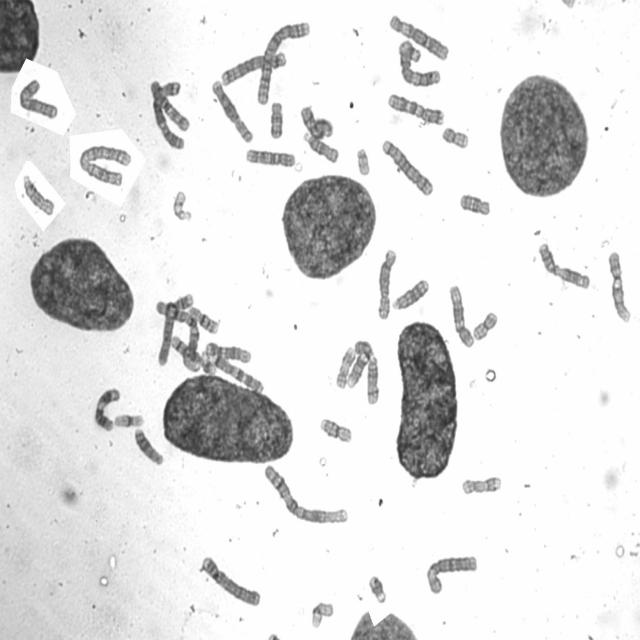A1: (262, 466, 351, 527), (154, 297, 202, 374)
A2: (254, 18, 312, 106), (76, 141, 134, 188)
A3: (148, 77, 187, 151), (396, 38, 442, 88)
B4: (199, 553, 262, 608), (154, 291, 199, 368)
B5: (379, 136, 434, 197), (218, 49, 288, 87)
C10: (150, 82, 188, 129), (244, 145, 296, 169)
C11: (536, 240, 592, 292), (91, 383, 122, 432)
C12: (447, 282, 475, 350), (202, 339, 252, 364)
C6: (386, 11, 450, 62), (423, 551, 478, 597)
C7: (210, 352, 264, 394), (386, 90, 446, 126)
C8: (209, 76, 254, 144), (374, 246, 398, 321)
C9: (606, 248, 632, 324), (347, 338, 378, 390)
D13: (390, 275, 430, 312), (133, 425, 165, 468)
D14: (168, 335, 204, 368), (364, 354, 380, 406)
D15: (20, 172, 56, 217), (301, 130, 339, 164)
E16: (318, 414, 353, 444), (188, 303, 220, 335)
E17: (334, 344, 356, 390), (460, 472, 502, 496)
E18: (457, 189, 492, 217), (268, 98, 284, 141)
F19: (309, 598, 335, 629), (112, 410, 146, 429)
F20: (440, 124, 470, 150), (472, 312, 497, 342)
G21: (366, 571, 388, 605), (200, 349, 217, 376)
G22: (172, 186, 193, 222), (354, 144, 372, 177)
X: (17, 76, 59, 121), (299, 102, 334, 140)
